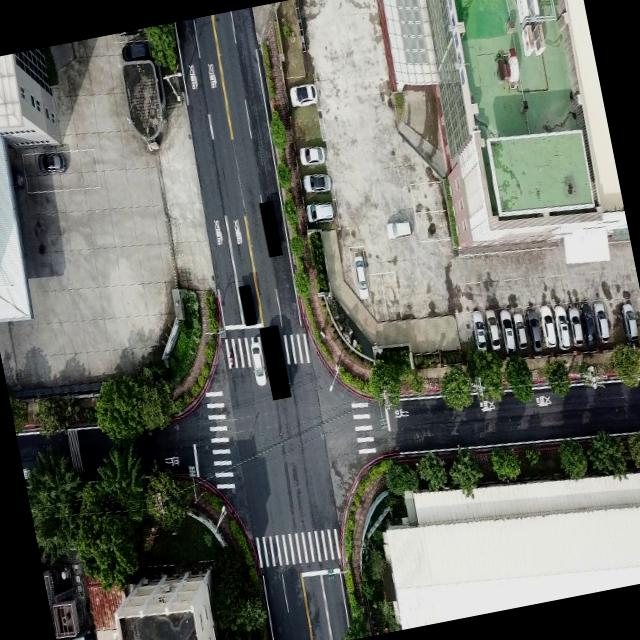car: (349, 248, 373, 304), (578, 296, 599, 350), (496, 306, 520, 352), (524, 302, 546, 352), (616, 297, 640, 342), (551, 303, 574, 349), (288, 80, 320, 112), (304, 198, 339, 227), (537, 302, 559, 348), (469, 306, 491, 352), (592, 299, 614, 344), (566, 298, 584, 348), (37, 148, 69, 176), (120, 36, 152, 64), (300, 168, 334, 194), (384, 214, 414, 242), (512, 306, 530, 351), (298, 142, 327, 168), (485, 312, 503, 351)
